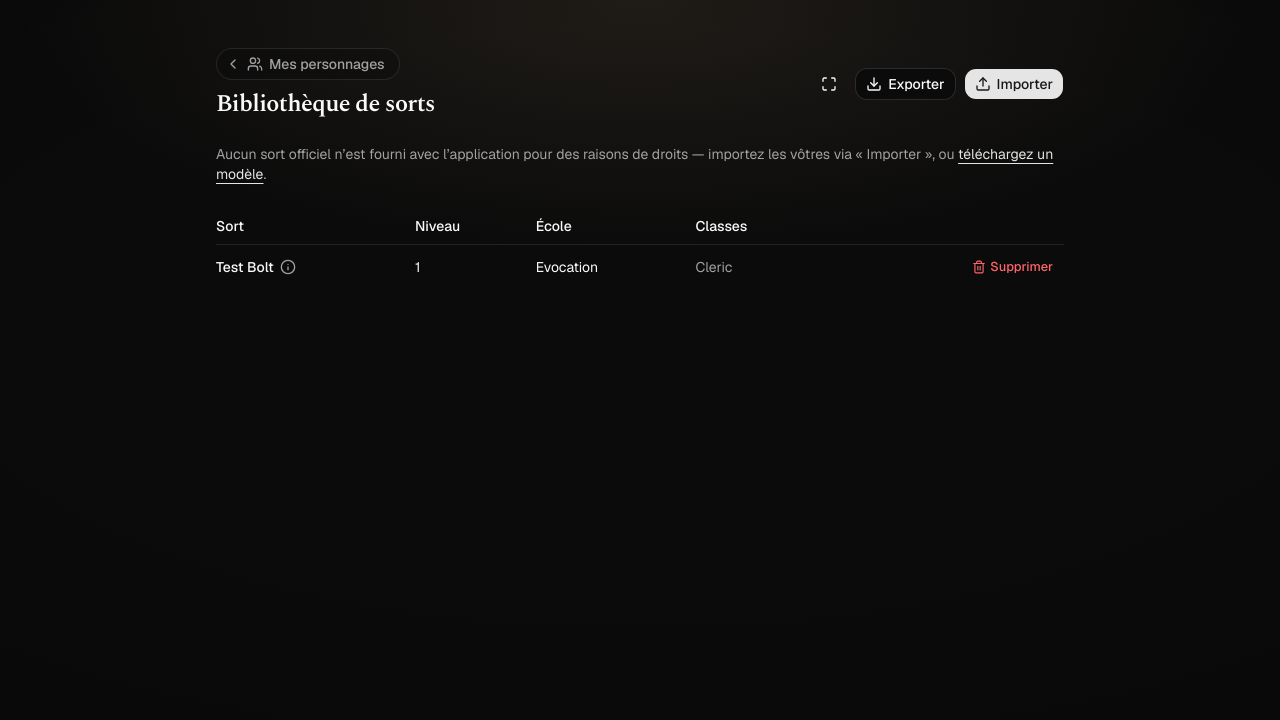
Test: SpellLibrary › opens a read-only spell detail sheet from a library row
What coordinates should you click on to do the following:
click the button named "Détails : Test Bolt"
I would click on:
 (640, 267)
Its box is [216,244,1064,289].
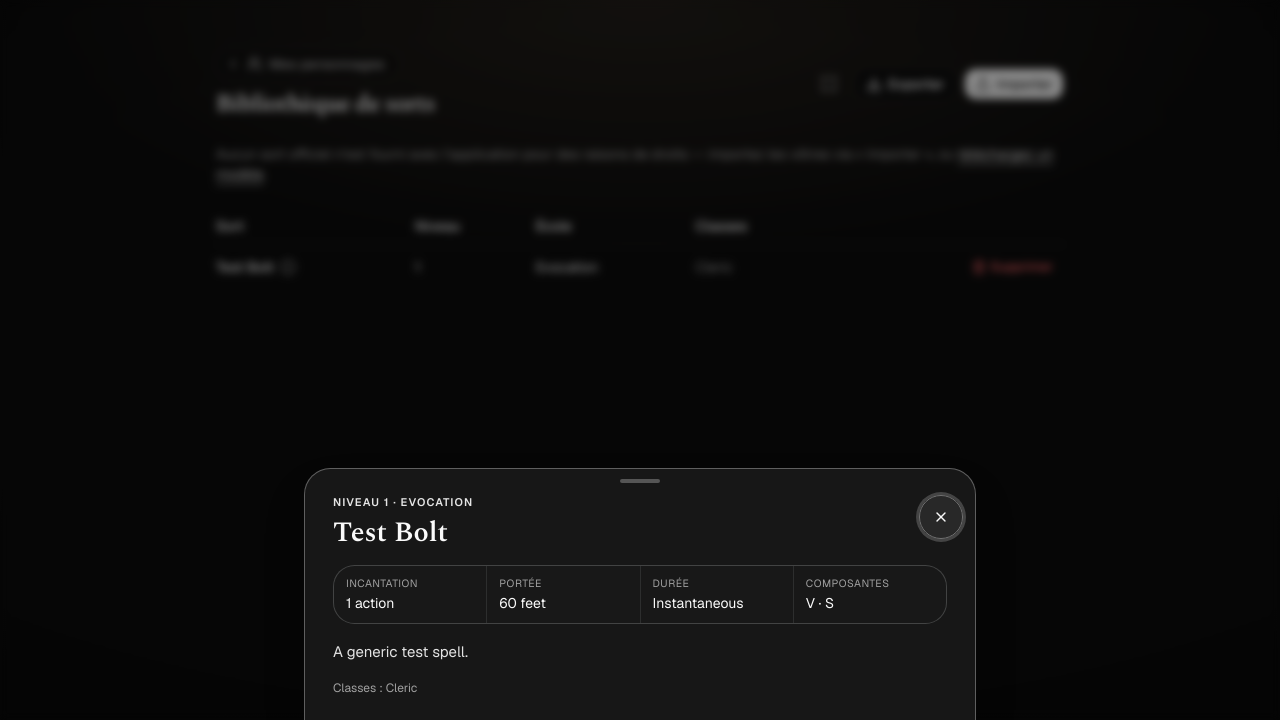
expect the text "A generic test spell." is shown: met, box [333,642,468,661]
expect the text "Classes : Cleric" is shown: met, box [333,680,417,696]
